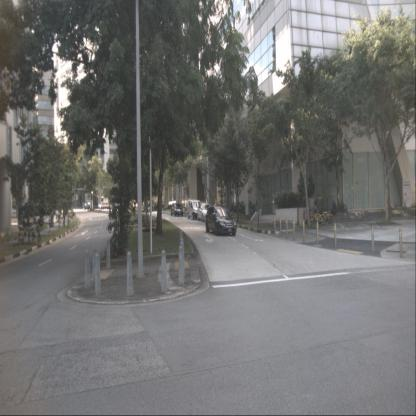human-pedestrian-adult: (330, 200, 337, 216), (313, 202, 320, 217)
vehicle-car: (205, 205, 237, 236), (187, 199, 202, 220), (198, 202, 212, 222), (171, 203, 183, 217), (82, 200, 94, 210), (100, 202, 109, 209)
